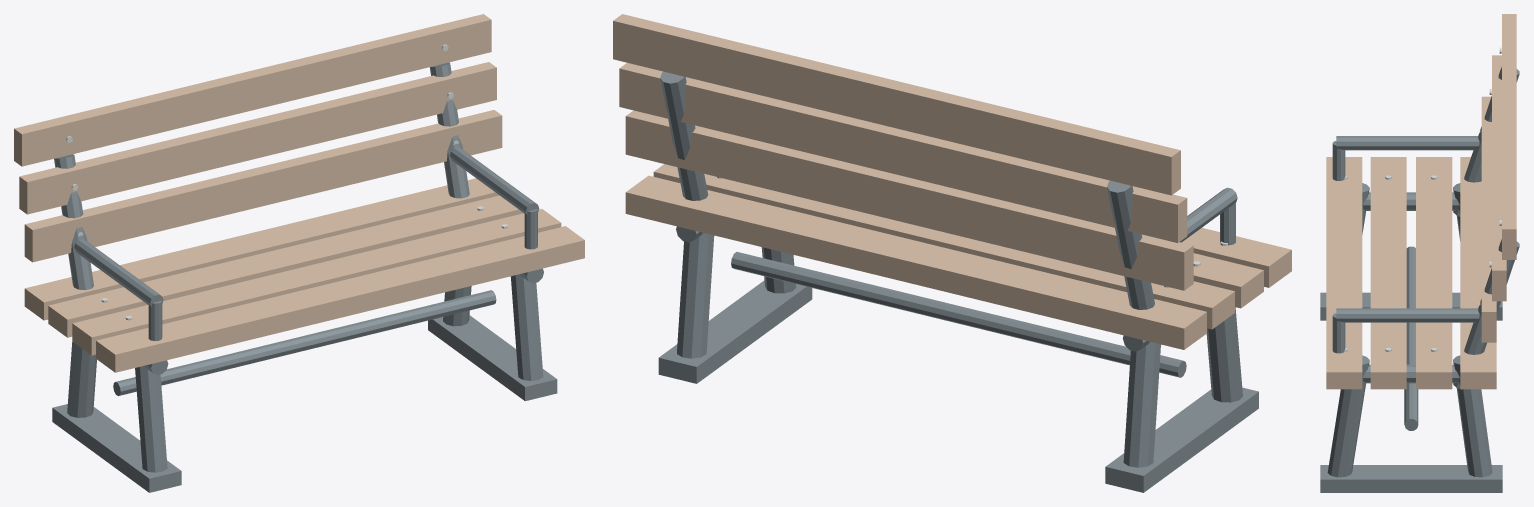
File: prop-bench.glb
3 views of the same model, side by side, from view 1: azimuth 30°, elevation 25°; view 2: azimuth 150°, elevation 25°; view 3: azimuth 270°, elevation 25° (orthographic). The views are drawn at different scales.
Visible parts, largest first — view 1: seat_slat_14, tube_0; view 2: seat_slat_14, tube_0; view 3: seat_slat_14, tube_0.
Boxes of the visible parts, x1,y1,x2,y2 form: seat_slat_14: (14, 14, 584, 372); tube_0: (52, 62, 557, 492); seat_slat_14: (613, 14, 1291, 349); tube_0: (658, 71, 1258, 492); seat_slat_14: (1326, 14, 1516, 389); tube_0: (1320, 66, 1519, 492).
Bounding box in the file's own units: 1.9 × 1.14 × 0.7439.
